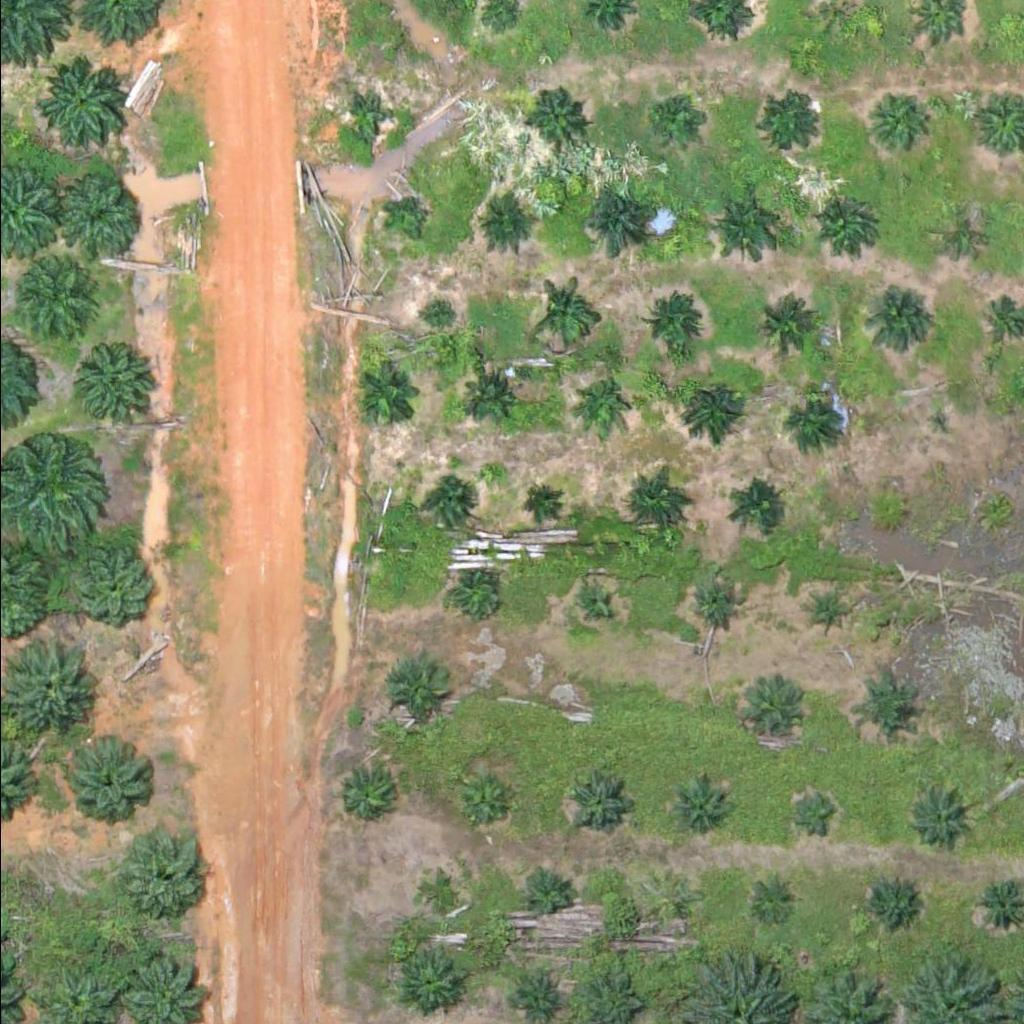Kelapa_Sawit: (119, 828, 207, 916), (56, 168, 144, 255), (59, 741, 147, 828), (40, 57, 128, 144), (10, 258, 98, 345), (67, 344, 155, 431), (63, 545, 151, 632), (623, 284, 699, 359), (704, 187, 780, 262), (851, 280, 927, 355), (749, 288, 825, 363), (381, 655, 457, 730), (521, 276, 597, 351), (573, 185, 648, 260), (392, 944, 467, 1019), (743, 685, 806, 748), (859, 674, 922, 737), (787, 389, 850, 452), (357, 366, 420, 429), (467, 193, 530, 256), (462, 365, 525, 428), (519, 85, 582, 148), (671, 772, 734, 835), (566, 772, 629, 835), (334, 765, 397, 828), (452, 765, 515, 828), (625, 475, 688, 537), (725, 474, 788, 536), (755, 92, 818, 154), (680, 378, 742, 441), (813, 195, 876, 257), (860, 94, 923, 156), (909, 784, 972, 846), (858, 870, 921, 932), (753, 876, 804, 926), (656, 875, 707, 925), (527, 865, 578, 915), (791, 791, 842, 841), (381, 198, 432, 248), (339, 92, 390, 142), (583, 374, 633, 424), (650, 93, 700, 143), (420, 475, 470, 525), (453, 575, 503, 625), (412, 869, 462, 919), (694, 577, 744, 627), (933, 208, 983, 258), (808, 594, 846, 632), (570, 584, 608, 622), (416, 293, 454, 331), (868, 491, 906, 529), (519, 479, 557, 516), (927, 411, 952, 436)
